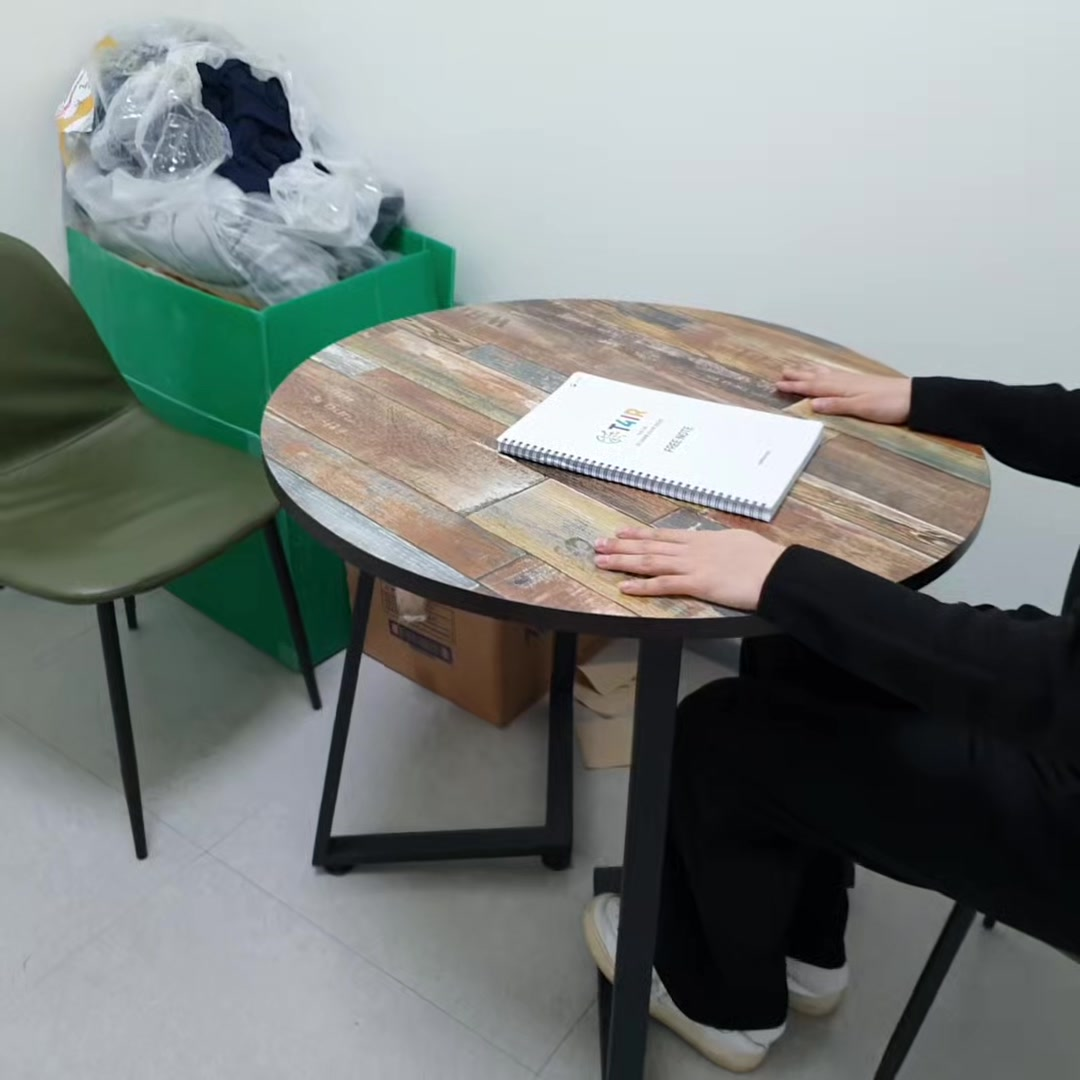book: (493, 371, 833, 532)
